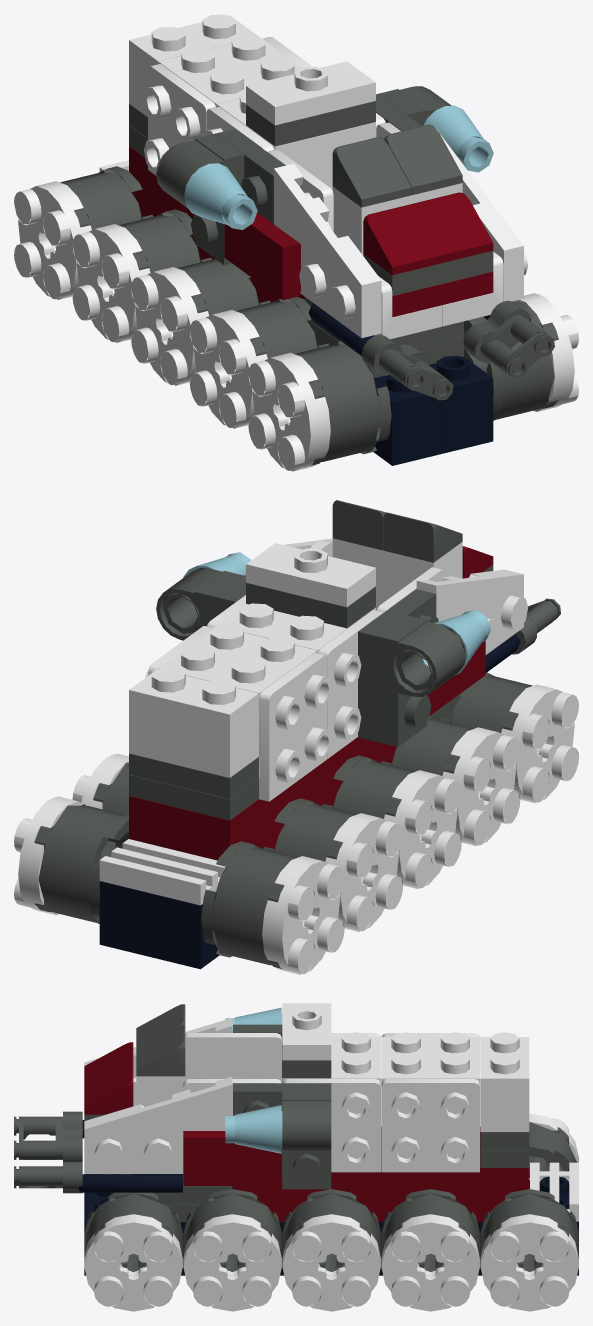
File: tank3.glb
The picture shows the model from 3 angles, top to bottom: view 1: azimuth 30°, elevation 25°; view 2: azimuth 150°, elevation 25°; view 3: azimuth 270°, elevation 25°; orthographic projection. The views are drawn at different scales.
Parts seen in each view (by area): view 1: 43723.dat, 85984.dat, 4032a.dat.009, 6143.dat.009, 4032a.dat.007, 4032a.dat.006, 4032a.dat.008, 4032a.dat.005, 3794b.dat, 3003.dat.001, 99207.dat.004, 11458.dat.001 (+33 smaller); view 2: 300401.dat, 44237.dat, 99207.dat.004, 11458.dat.001, 4032a.dat.005, 6143.dat.004, 6143.dat.005, 4032a.dat.007, 4032a.dat.008, 4032a.dat.009, 4032a.dat.006, 3003.dat.001 (+31 smaller); view 3: 99207.dat.005, 43722.dat, 44237.dat, 4032a.dat.002, 4032a.dat.003, 4032a.dat.004, 4032a.dat.001, 4032a.dat, 11458.dat, 99207.dat.003, 300401.dat, 99207.dat (+31 smaller).
Part boxes in pixels (x1,y1,x2,y2): 43723.dat: (274, 163, 381, 338); 85984.dat: (363, 192, 493, 275); 4032a.dat.009: (248, 352, 330, 471); 6143.dat.009: (294, 341, 391, 465); 4032a.dat.007: (131, 267, 208, 385); 4032a.dat.006: (72, 224, 150, 342); 4032a.dat.008: (190, 310, 267, 428); 4032a.dat.005: (14, 181, 91, 299); 3794b.dat: (246, 61, 375, 125); 3003.dat.001: (158, 36, 301, 107); 99207.dat.004: (144, 64, 215, 175); 11458.dat.001: (156, 133, 244, 265); 300401.dat: (129, 668, 258, 777); 44237.dat: (129, 737, 396, 860); 99207.dat.004: (259, 653, 331, 801); 11458.dat.001: (378, 615, 465, 746); 4032a.dat.005: (262, 856, 344, 974); 6143.dat.004: (34, 804, 128, 923); 6143.dat.005: (201, 841, 297, 968); 4032a.dat.007: (384, 770, 461, 888); 4032a.dat.008: (442, 727, 520, 845); 4032a.dat.009: (501, 684, 578, 802); 4032a.dat.006: (325, 813, 402, 931); 3003.dat.001: (158, 625, 317, 755); 99207.dat.005: (381, 1079, 479, 1172); 43722.dat: (84, 1076, 232, 1173); 44237.dat: (233, 1127, 529, 1221); 4032a.dat.002: (282, 1214, 380, 1311); 4032a.dat.003: (381, 1214, 479, 1311); 4032a.dat.004: (480, 1214, 578, 1311); 4032a.dat.001: (183, 1214, 281, 1311); 4032a.dat: (84, 1214, 182, 1311); 11458.dat: (282, 1091, 331, 1189); 99207.dat.003: (283, 1079, 380, 1172); 300401.dat: (480, 1032, 529, 1131); 99207.dat: (185, 1033, 281, 1082).
Size of the model in its own units: 0.5642 by 0.5392 by 1.14.
